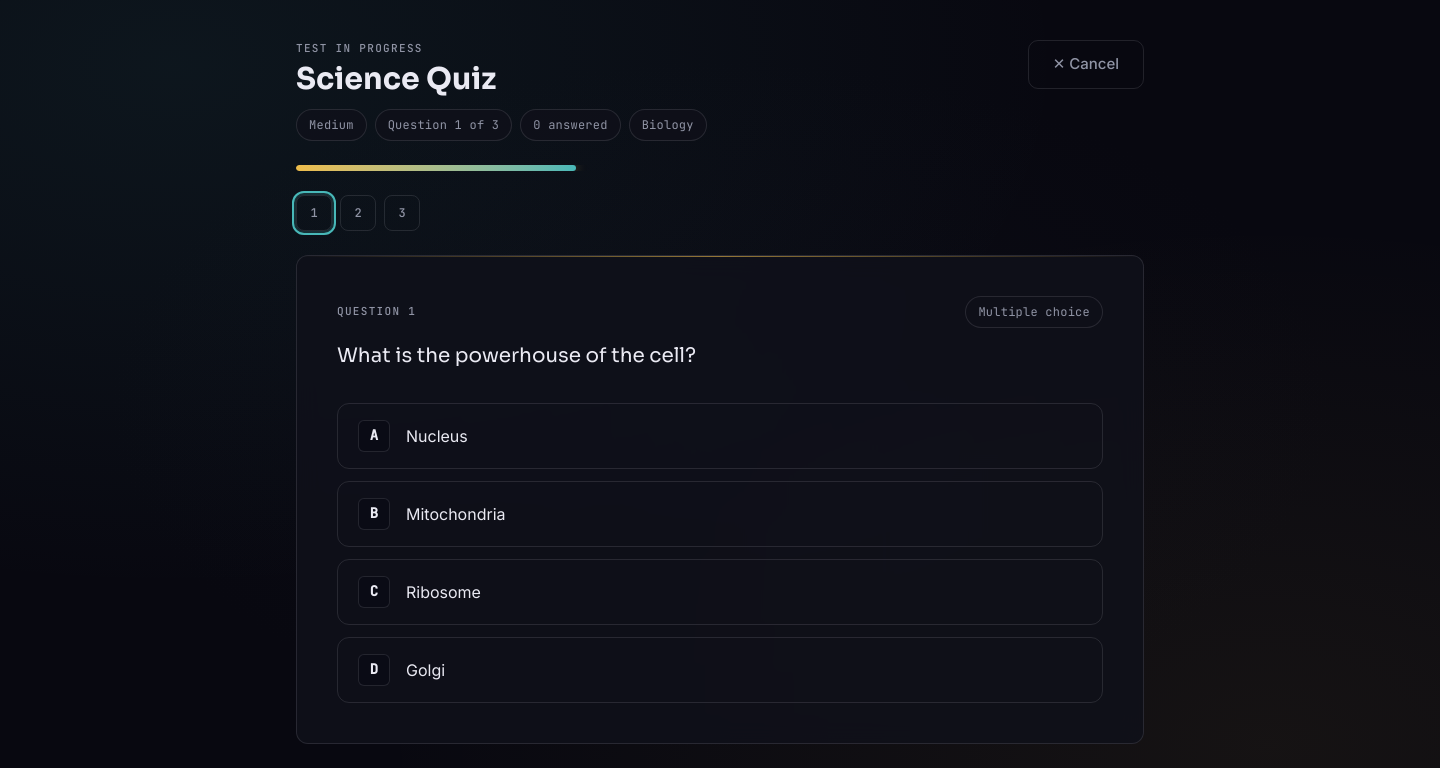
Test: TakeTest › submits test and shows score
Expected: the heading "Science Quiz" is shown, [296,60,496,98]
Click the button named "Go to question 3" at (402, 212), box [384,194,420,230]
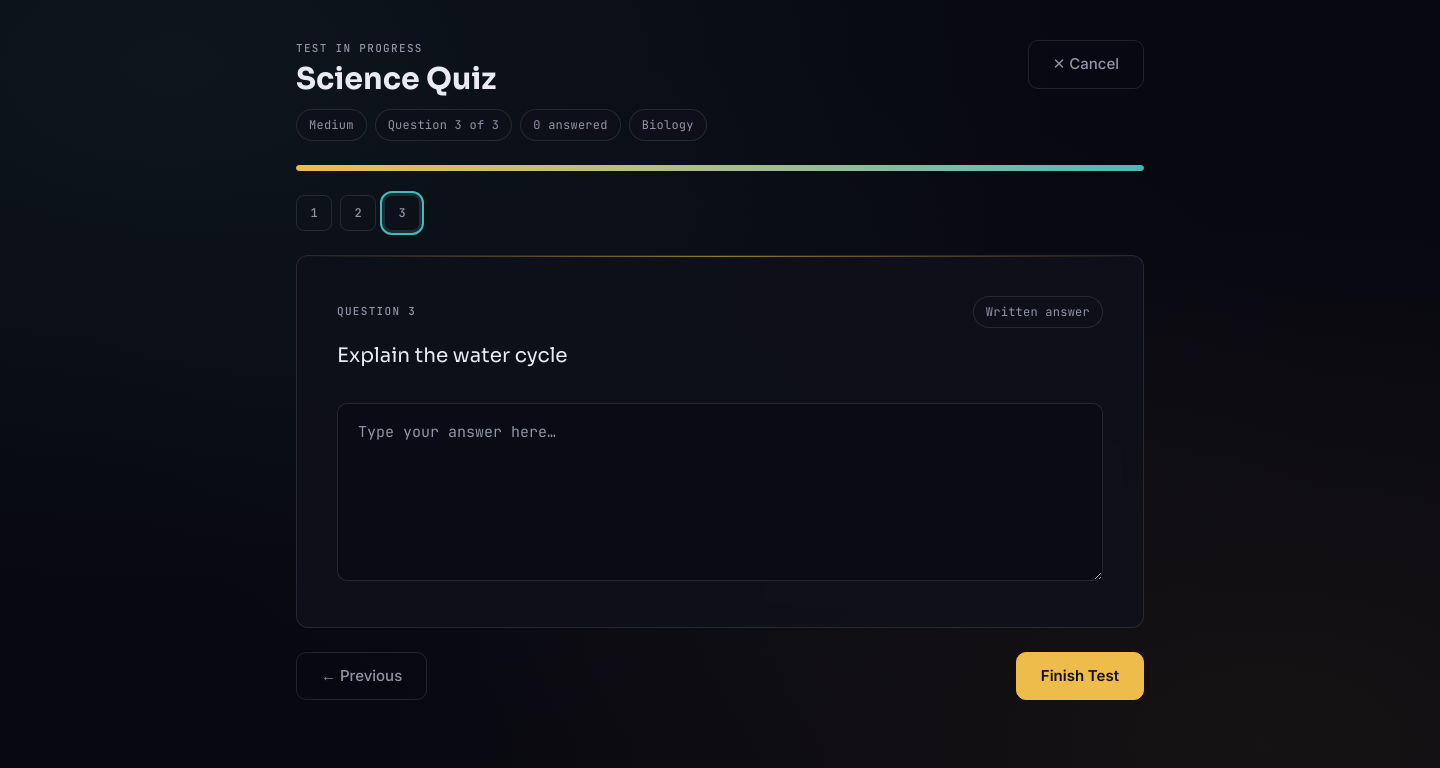
Now the button "Finish Test" is shown
Click the button "Finish Test" at (1080, 676), box [1016,652,1144,700]
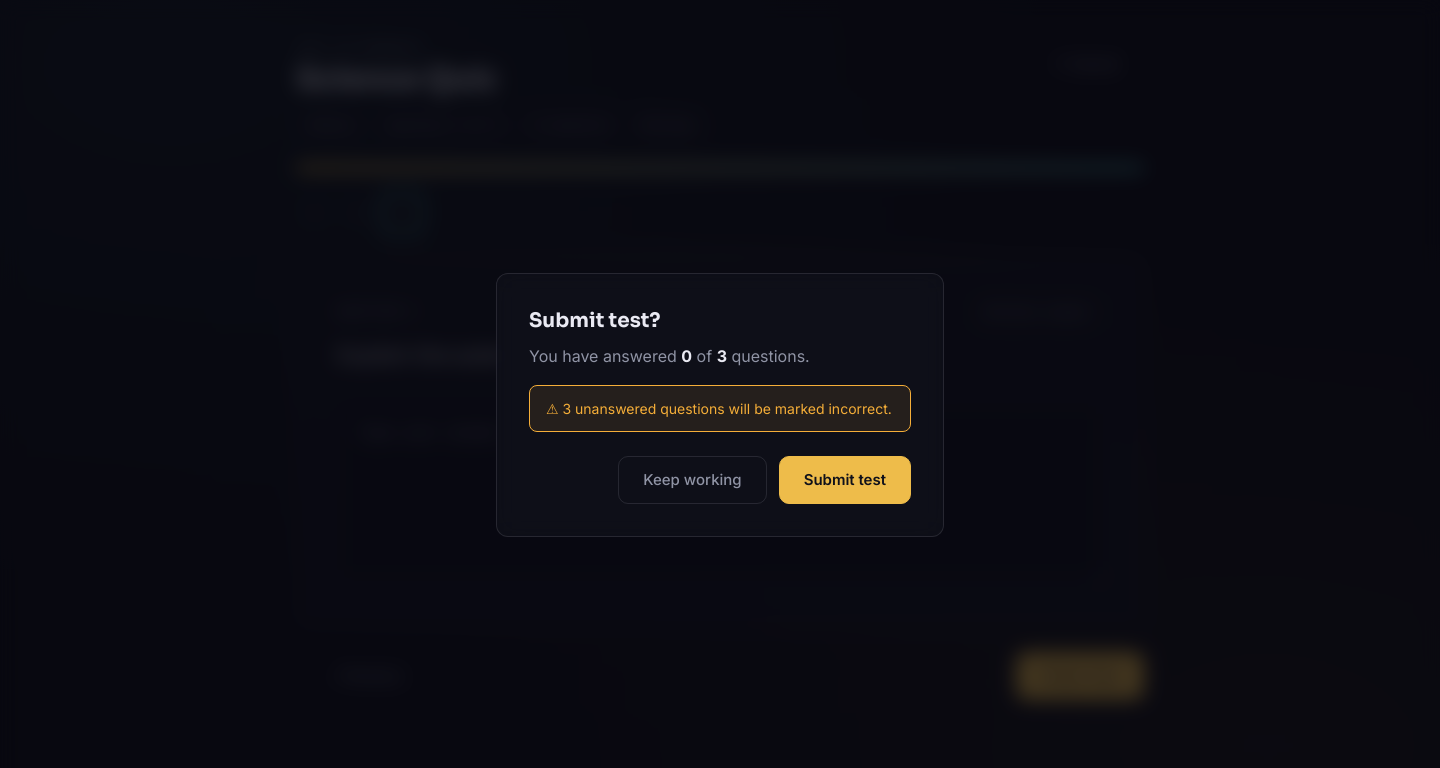
Now the heading "Submit test?" is shown, box [529,308,661,333]
Click the button "Submit test" at (845, 480), box [779,456,911,504]
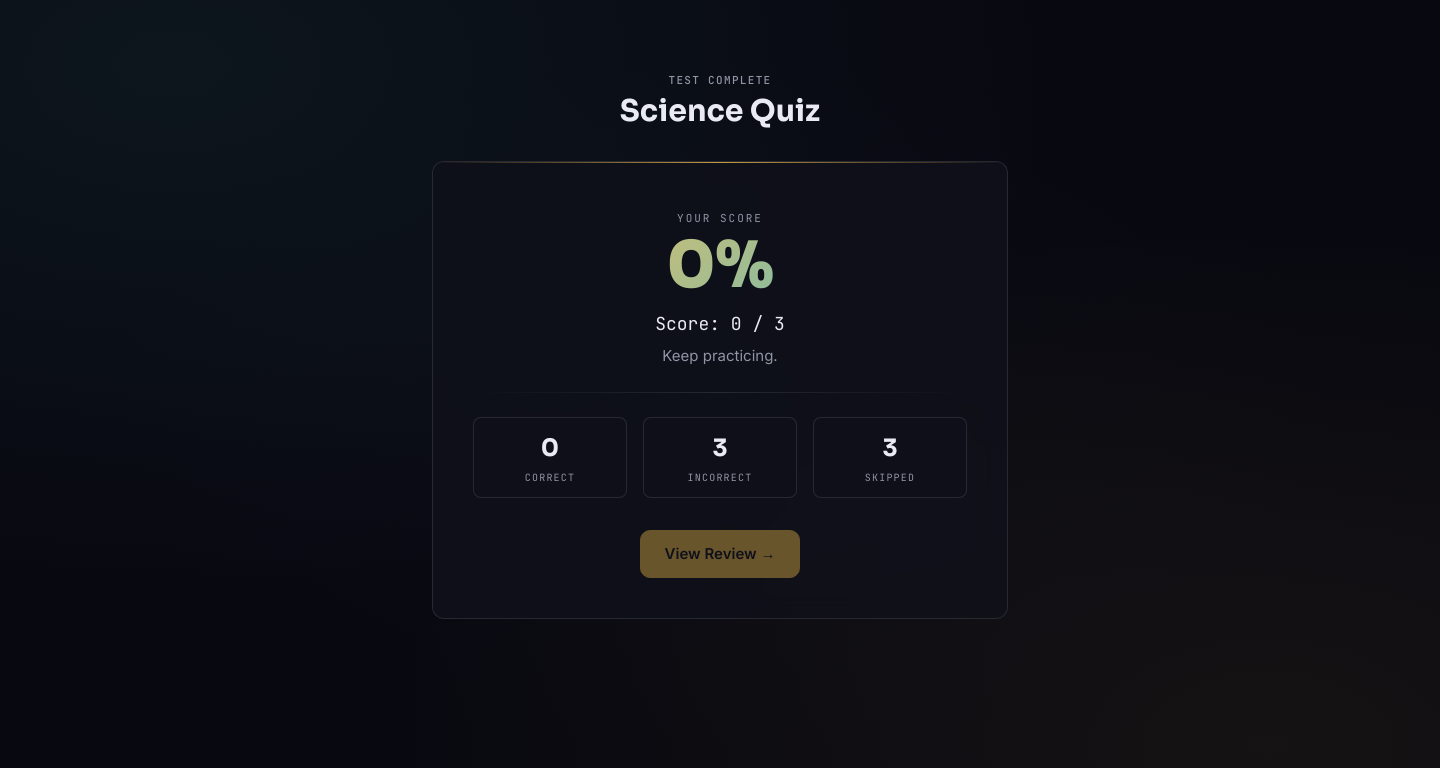
Now the text "Test complete" is shown, box [668,73,772,87]
